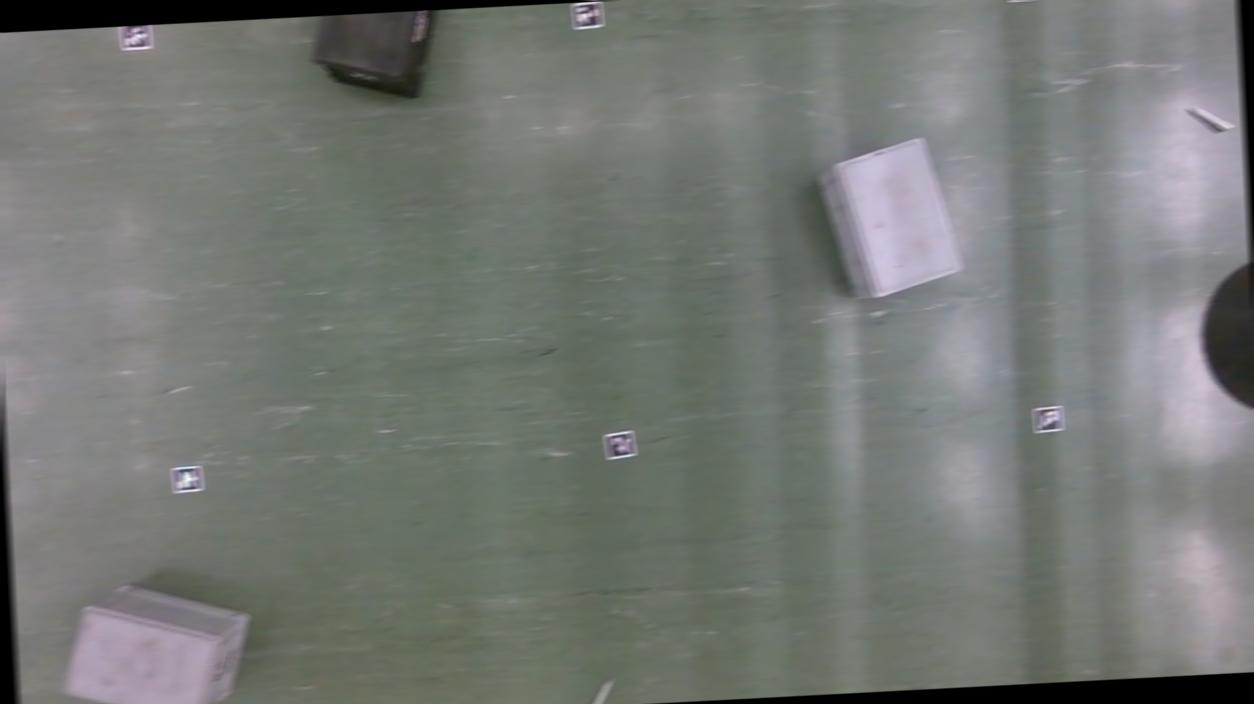probes: (1183, 104, 1232, 135), (582, 676, 613, 704)
rako: (817, 130, 970, 302), (306, 9, 450, 103)
